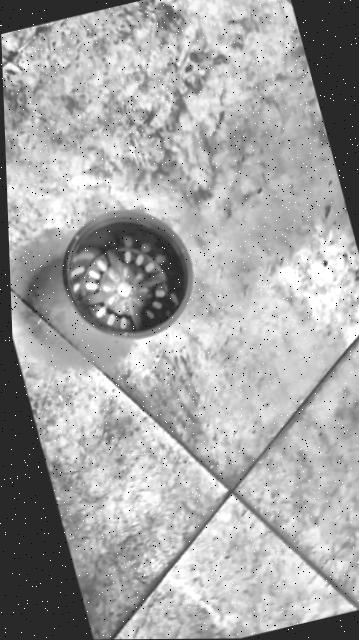pot: (46, 198, 208, 351)
